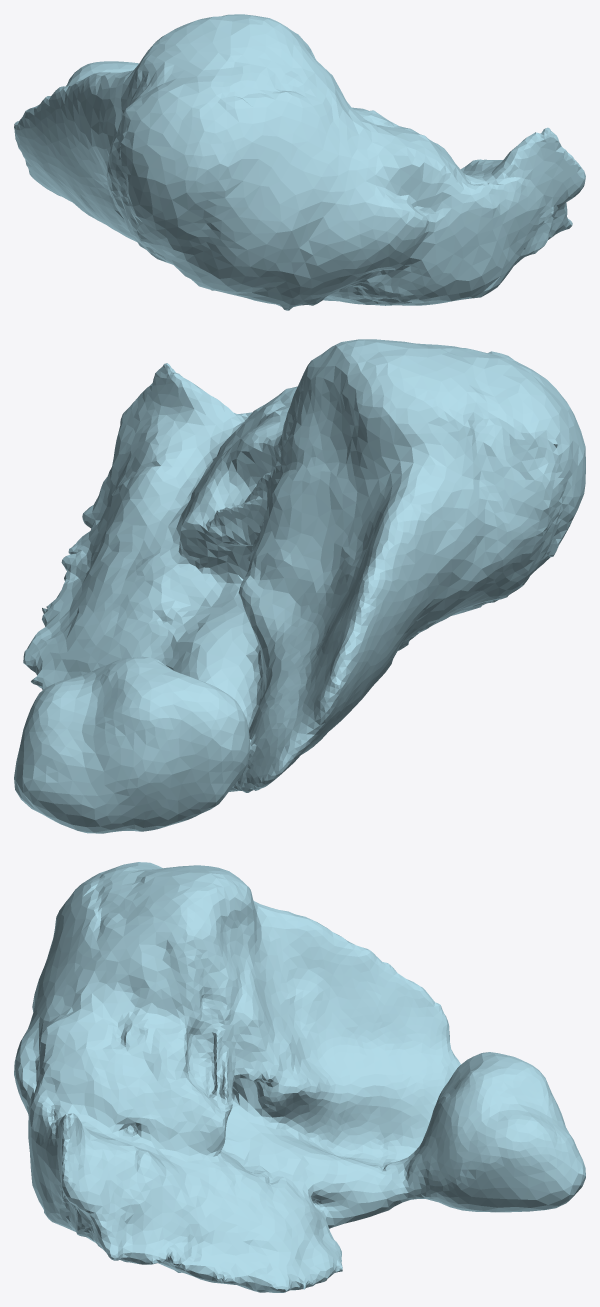
The model's file is liver.obj.
3 views of the same model, one above another, from view 1: azimuth 30°, elevation 25°; view 2: azimuth 150°, elevation 25°; view 3: azimuth 270°, elevation 25° (orthographic). The views are drawn at different scales.
Visible parts, largest first — view 1: grp1; view 2: grp1; view 3: grp1.
Part boxes in pixels (x1,y1,x2,y2): grp1: (14, 14, 585, 310); grp1: (14, 339, 585, 833); grp1: (14, 862, 585, 1292).
Bounding box in the file's own units: 202 × 143 × 238.
